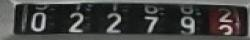digits: (216, 6, 236, 37), (142, 4, 162, 34), (178, 5, 198, 34), (104, 12, 121, 32), (68, 12, 83, 32), (30, 12, 45, 31)
